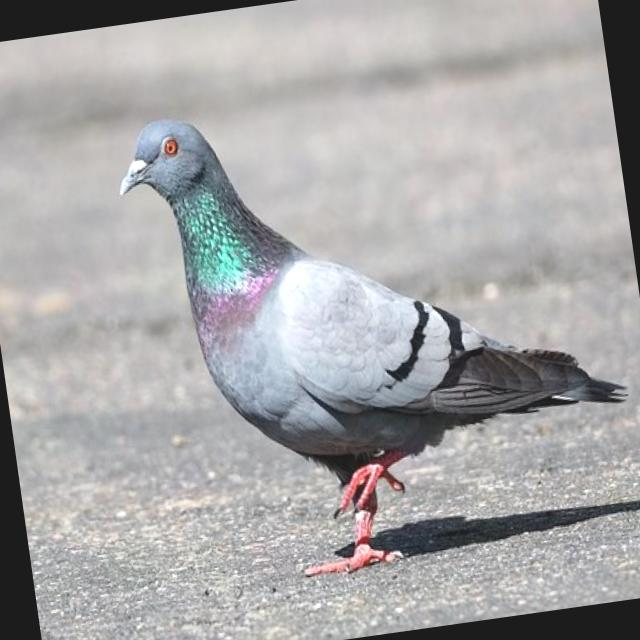bird: (109, 57, 640, 599)
